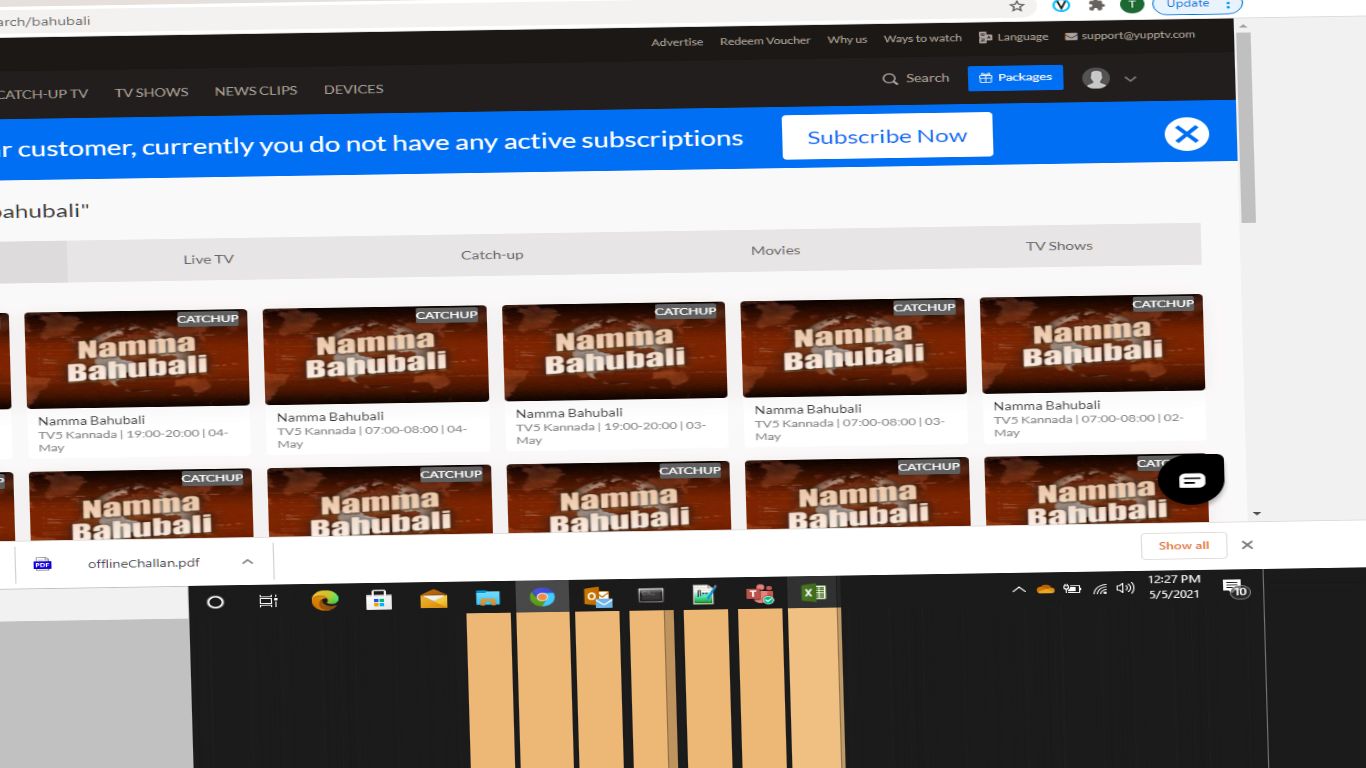profileicon: (1083, 66, 1145, 100)
resultsfound: (1, 178, 111, 231)
searchicon: (874, 60, 956, 94)
